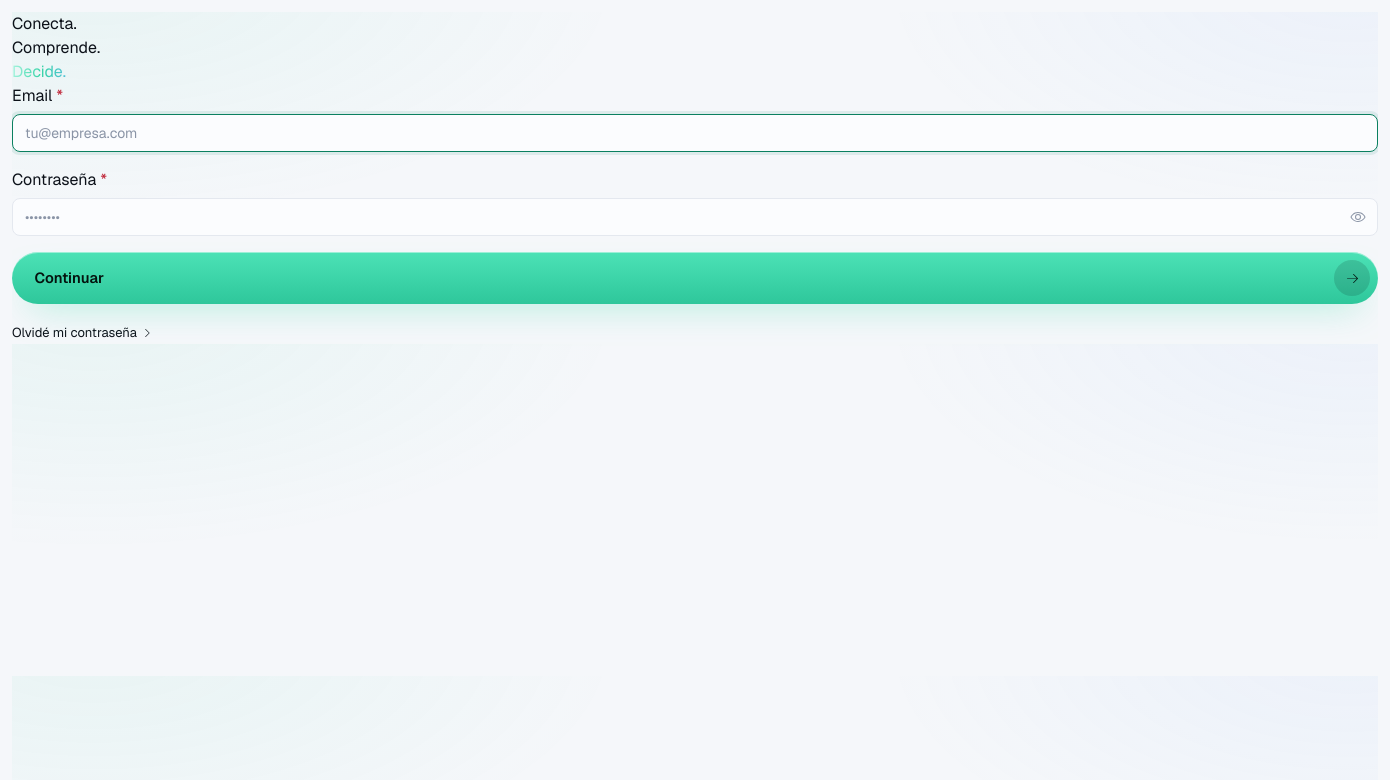
Test case: login › abre y cierra el panel de restablecimiento
Click the button "Olvidé mi contraseña" at point(82, 333), box [12, 323, 153, 342]
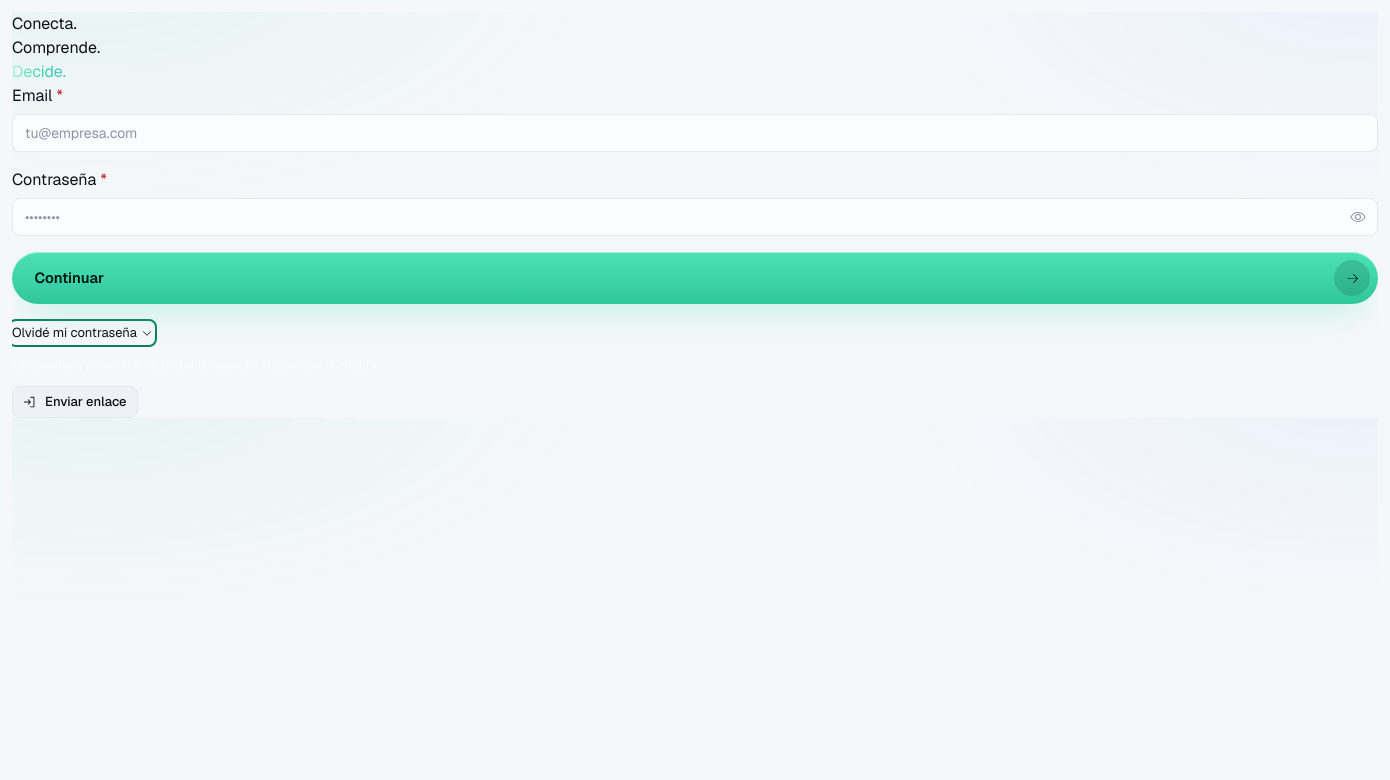
Now the button "Olvidé mi contraseña" is expanded
Click the button "Olvidé mi contraseña" at point(82, 333), box [12, 323, 153, 342]
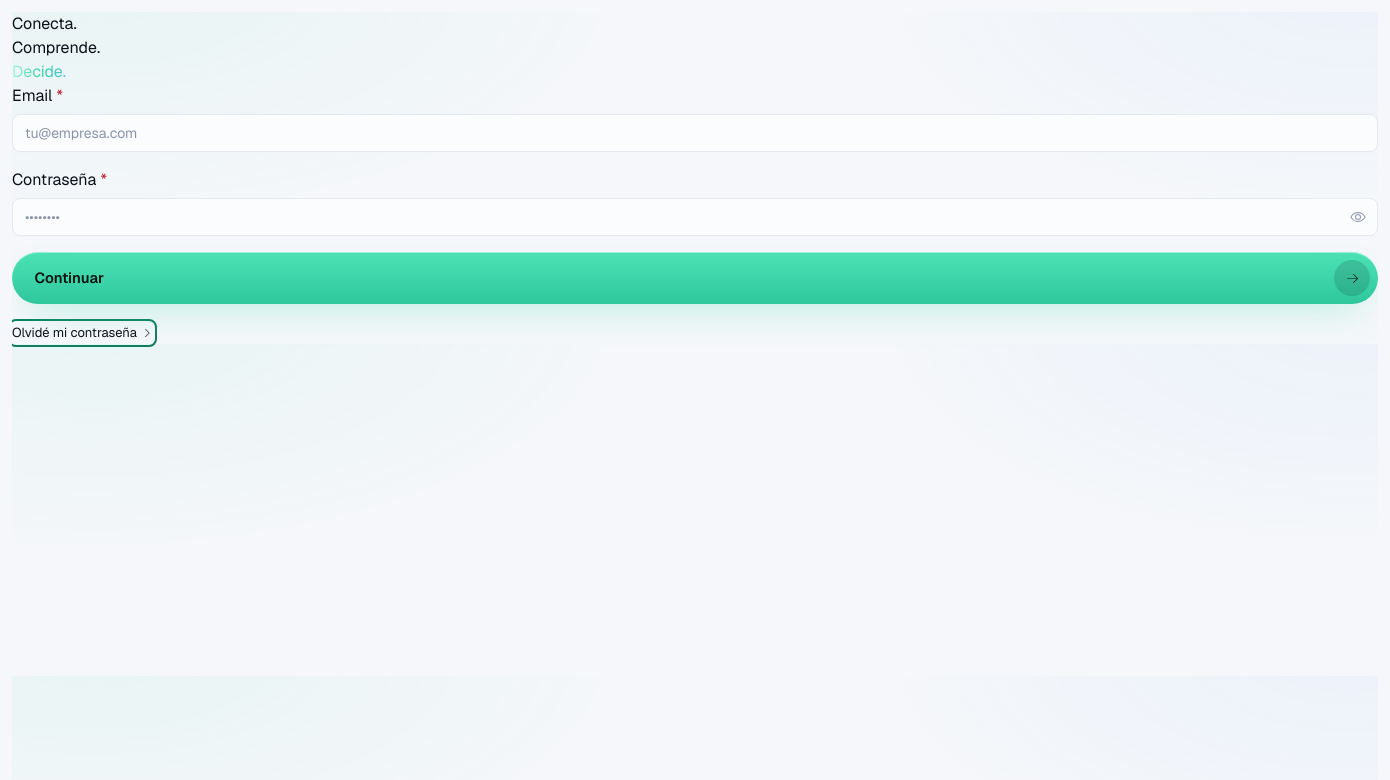
Now the button "Olvidé mi contraseña" is collapsed, box [12, 323, 153, 342]
